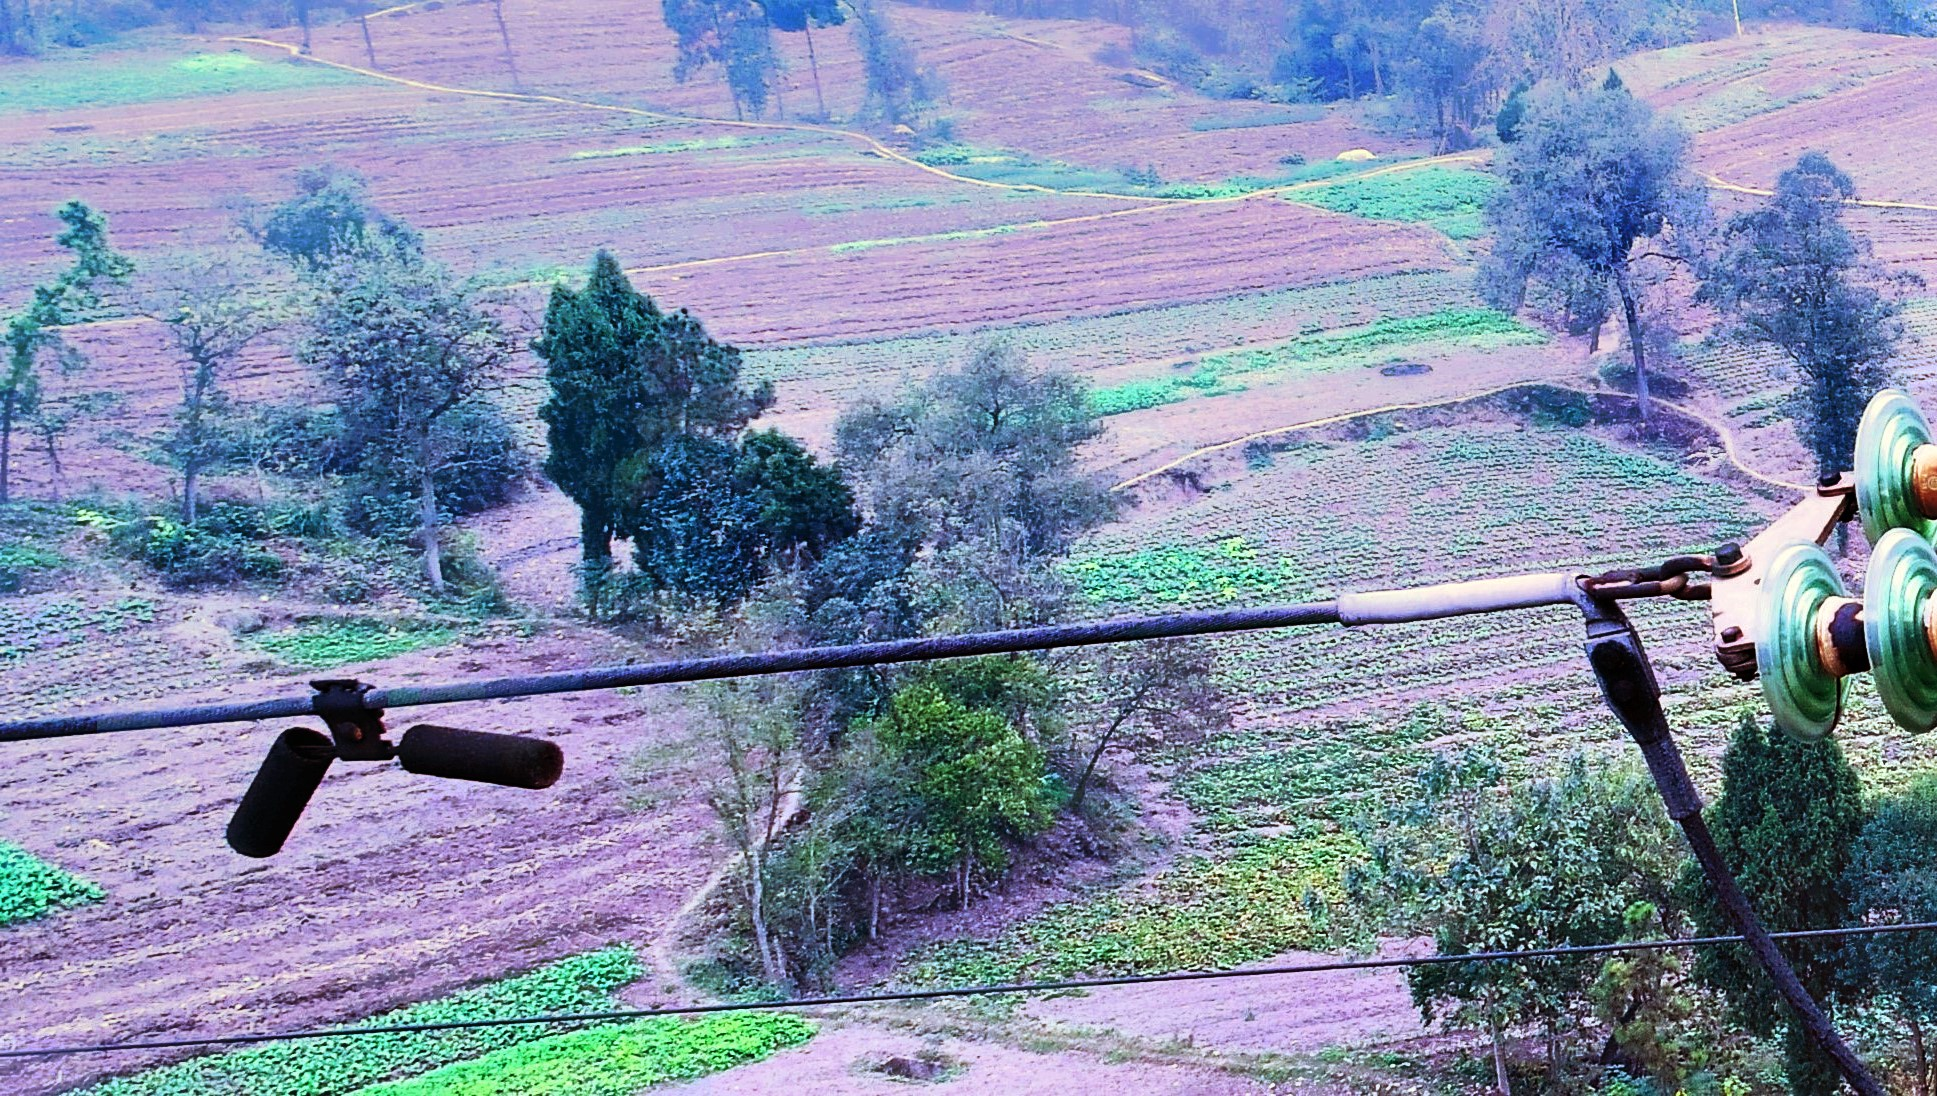Damage of shockproof hammer: (210, 641, 585, 896)
